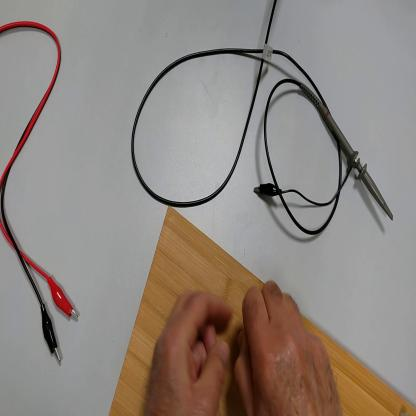hand: (236, 279, 338, 412), (147, 288, 232, 414)
oscilloscope probe tip: (302, 84, 396, 218)
working area: (110, 208, 416, 416)
